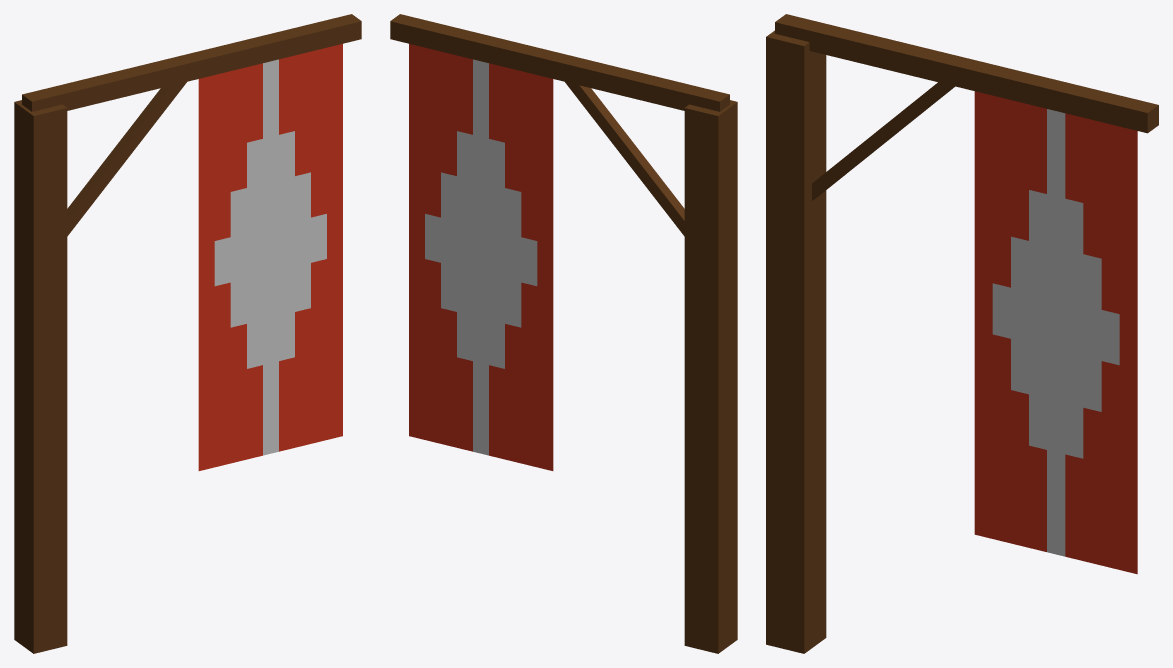
The model's file is FlagPole.fbx.
3 renders of one model, left to right at view 1: azimuth 30°, elevation 25°; view 2: azimuth 150°, elevation 25°; view 3: azimuth 330°, elevation 25°, orthographic. The views are drawn at different scales.
Parts seen in each view (by area): view 1: Flag, FlagPole; view 2: Flag, FlagPole; view 3: Flag, FlagPole.
Boxes of the visible parts, x1=… form: Flag: x1=198, y1=44, x2=342, y2=470; FlagPole: x1=14, y1=14, x2=361, y2=653; Flag: x1=409, y1=44, x2=553, y2=470; FlagPole: x1=390, y1=14, x2=737, y2=653; Flag: x1=974, y1=91, x2=1137, y2=574; FlagPole: x1=766, y1=14, x2=1158, y2=653.
Bounding box in the file's own units: 3.06 × 4.82 × 0.311.
